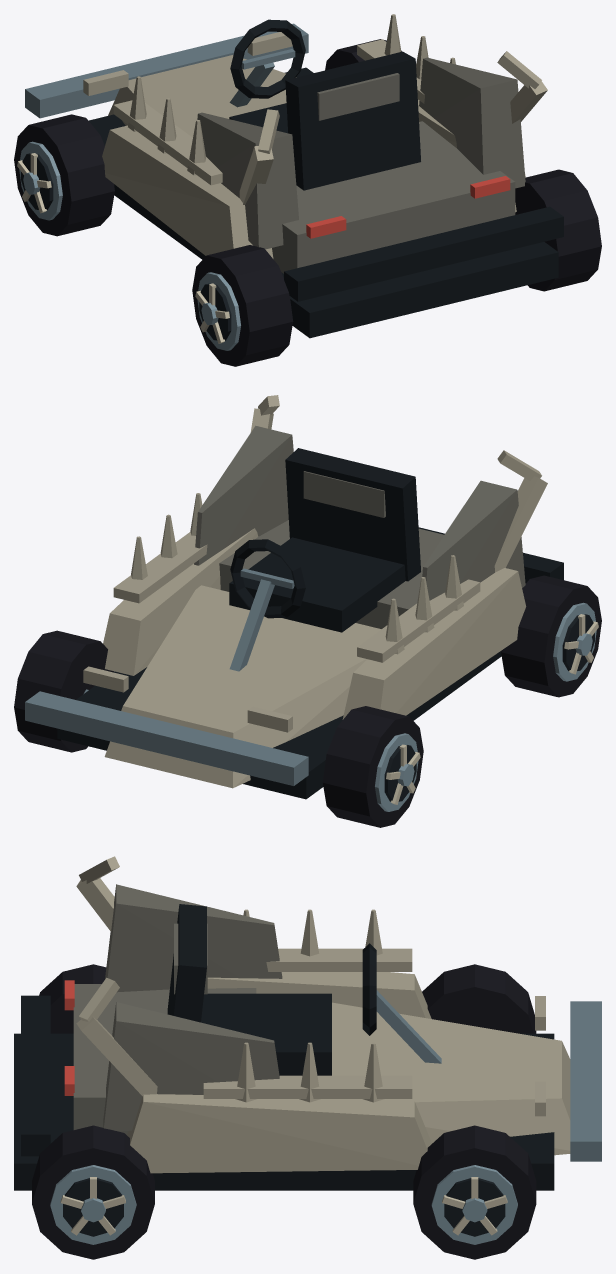
File: kart.glb
3 renders of one model, top to bottom at view 1: azimuth 30°, elevation 25°; view 2: azimuth 150°, elevation 25°; view 3: azimuth 270°, elevation 25°, orthographic. The views are drawn at different scales.
Parts seen in each view (by area): view 1: chassis, wheel-rear-left, wheel-front-left, wheel-rear-right, wheel-front-right; view 2: chassis, wheel-front-left, wheel-rear-left, wheel-front-right; view 3: chassis, wheel-front-right, wheel-rear-right, wheel-front-left, wheel-rear-left.
Boxes of the visible parts, x1,y1,x2,y2 form: chassis: (25, 14, 563, 338); wheel-rear-left: (192, 245, 293, 366); wheel-front-left: (14, 114, 114, 236); wheel-rear-right: (515, 169, 601, 291); wheel-front-right: (325, 39, 401, 70); chassis: (25, 395, 563, 799); wheel-front-left: (322, 706, 423, 827); wheel-rear-left: (501, 575, 601, 697); wheel-front-right: (14, 630, 113, 752); chassis: (14, 856, 601, 1190); wheel-front-right: (413, 1125, 536, 1259); wheel-rear-right: (32, 1125, 154, 1259); wheel-front-left: (422, 964, 536, 1033); wheel-rear-left: (39, 964, 106, 1033).
Size of the model in its own units: 2.36 by 1.38 by 2.96.
